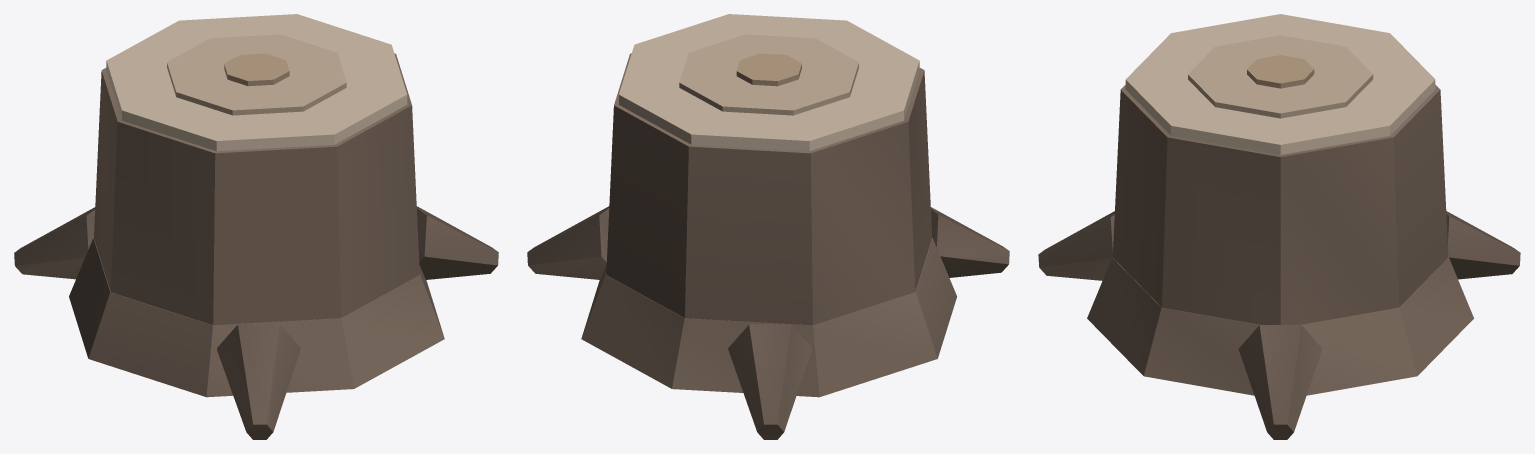
The model's file is Tree_Pine_Used.fbx.
The picture shows the model from 3 angles, left to right: view 1: azimuth 30°, elevation 25°; view 2: azimuth 150°, elevation 25°; view 3: azimuth 270°, elevation 25°; orthographic projection.
Parts seen in each view (by area): view 1: Res_Tree_Pine_Used; view 2: Res_Tree_Pine_Used; view 3: Res_Tree_Pine_Used.
Part boxes in pixels (x1=…): Res_Tree_Pine_Used: x1=14, y1=14, x2=498, y2=439; Res_Tree_Pine_Used: x1=527, y1=14, x2=1009, y2=439; Res_Tree_Pine_Used: x1=1038, y1=14, x2=1520, y2=439.
Bounding box in the file's own units: 0.8334 × 0.509 × 0.8593.
